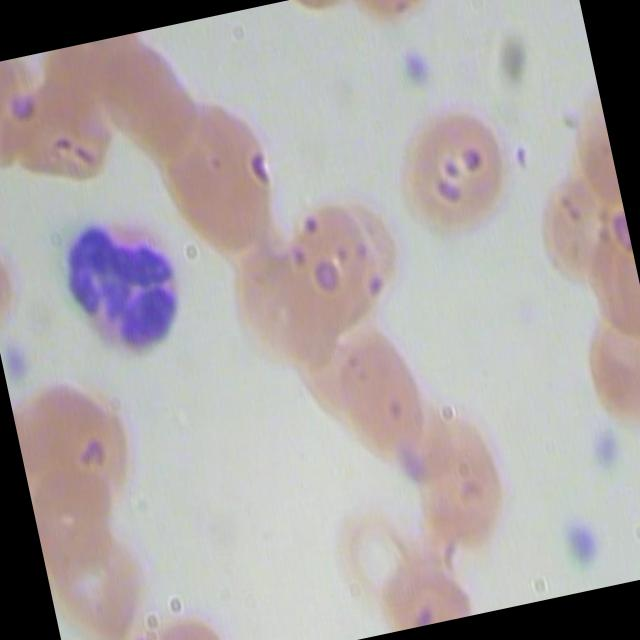Platelets: (581, 418, 630, 476), (393, 37, 442, 94), (557, 512, 606, 569), (0, 330, 44, 386)
RBC: (142, 81, 286, 272), (386, 93, 530, 247), (304, 472, 448, 626), (308, 316, 451, 470), (8, 366, 150, 520), (25, 448, 167, 602), (398, 402, 514, 557), (270, 196, 388, 338), (221, 229, 339, 370), (132, 590, 238, 640)
WBC: (44, 197, 195, 377)
